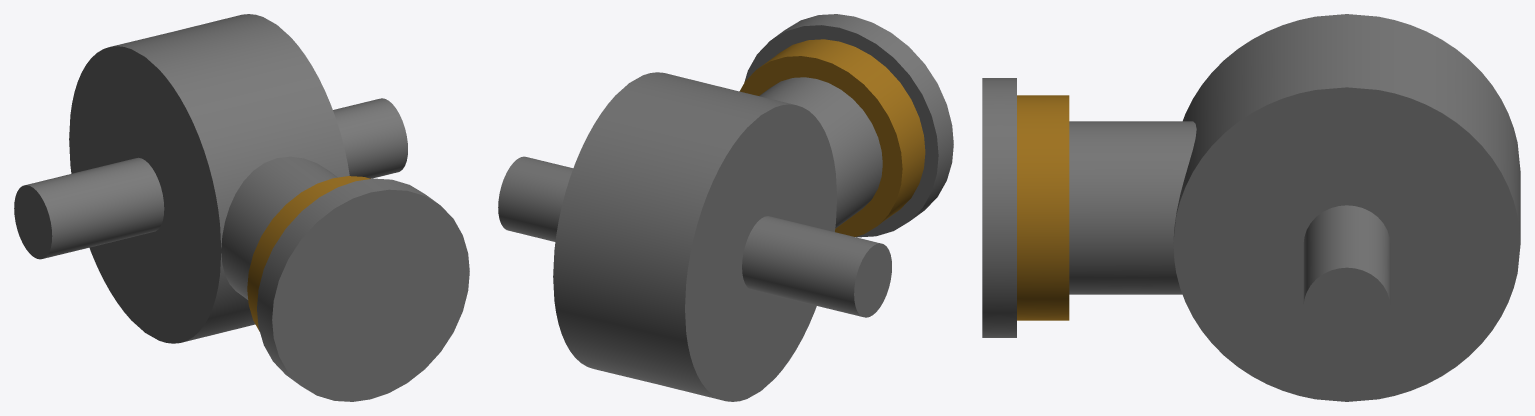
Rendered from Puma560_link6.glb.
3 views of the same model, side by side, from view 1: azimuth 30°, elevation 25°; view 2: azimuth 150°, elevation 25°; view 3: azimuth 270°, elevation 25° (orthographic). The views are drawn at different scales.
Parts seen in each view (by area): view 1: Pieza6; view 2: Pieza6; view 3: Pieza6.
Boxes of the visible parts, x1,y1,x2,y2 form: Pieza6: (14,14,469,401); Pieza6: (498,14,953,401); Pieza6: (982,14,1520,401).
Bounding box in the file's own units: 0.0686 × 0.0508 × 0.0787.
